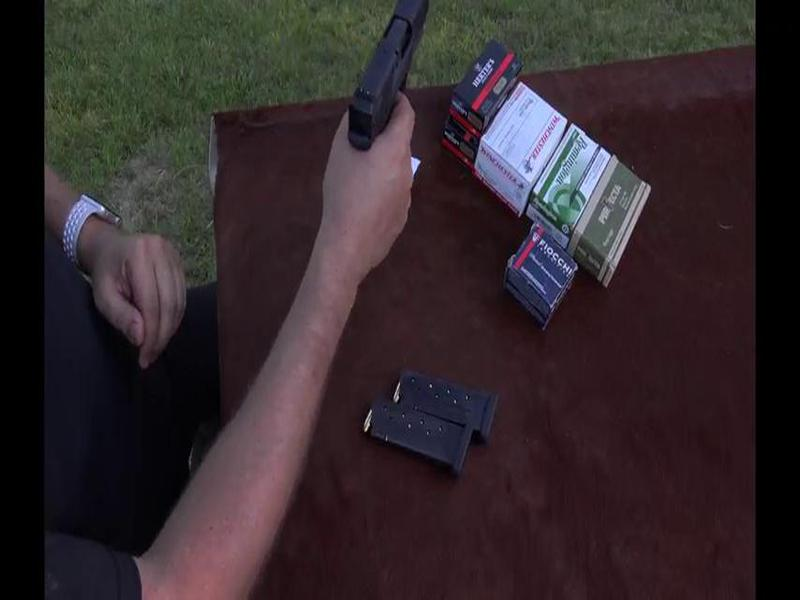Pistola: (326, 1, 447, 152)
